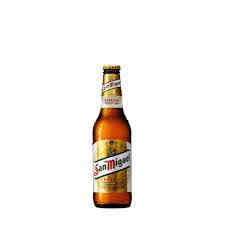beer: (92, 65, 132, 209)
